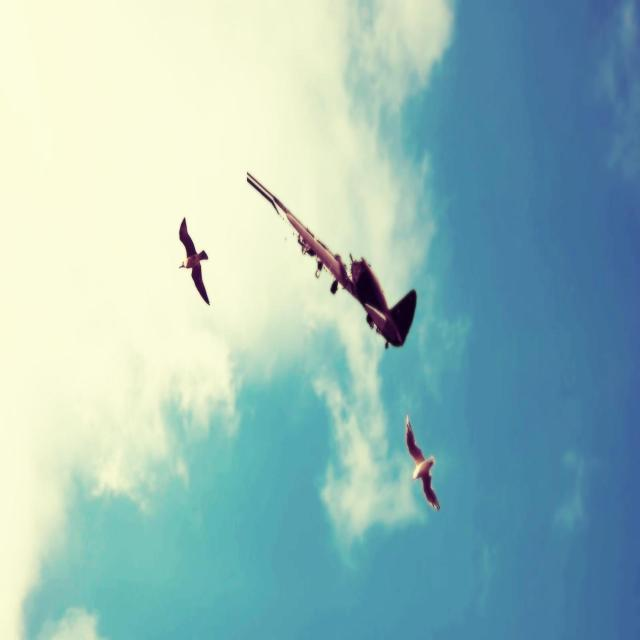airplane: (245, 170, 417, 350)
